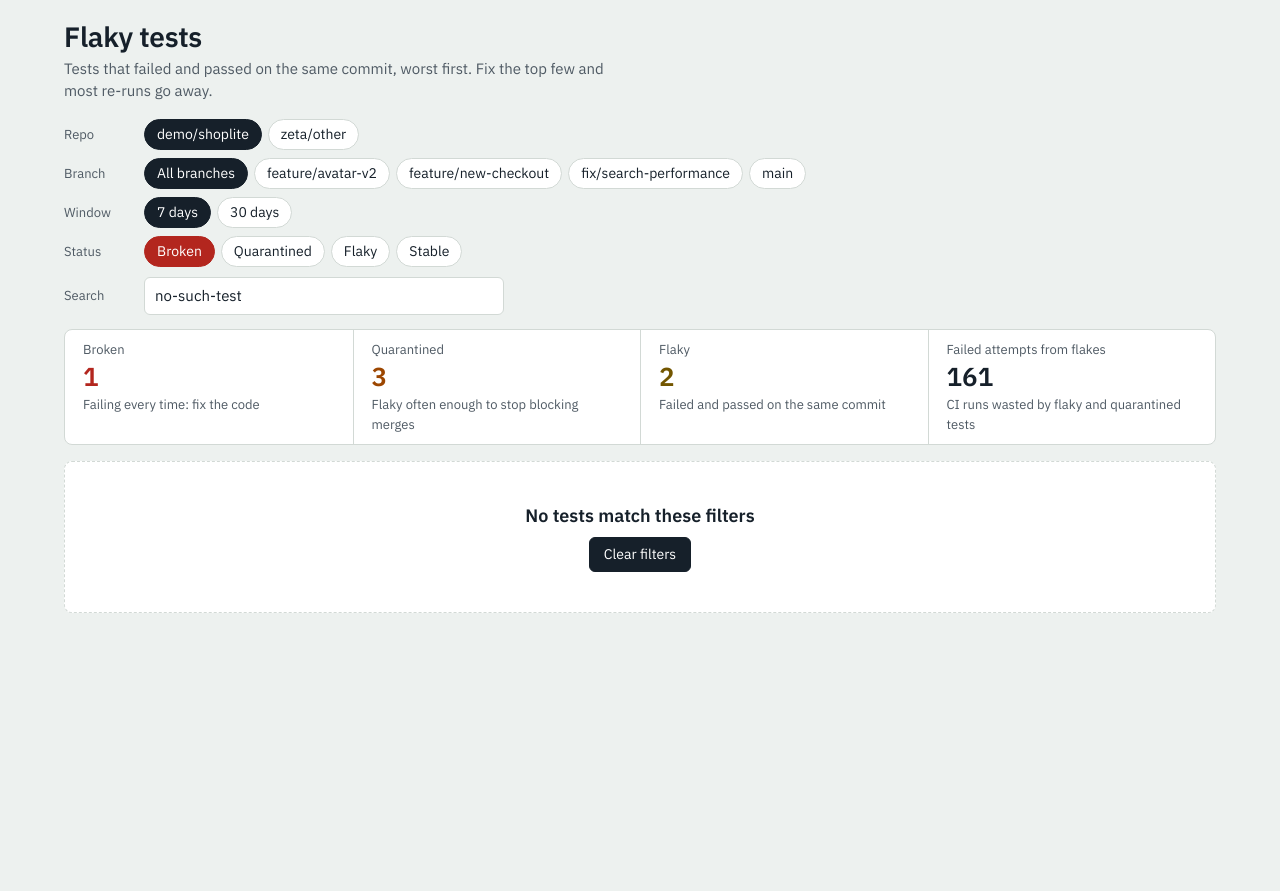
Test case: loading, empty, and error states › REQ-UI-08: when no rows match, says so and Clear filters restores the full list
expect the heading "No tests match these filters" is shown: met, box top-left (525, 504), bottom-right (755, 528)
Click the button "Clear filters".
click(640, 555)  # box top-left (589, 538), bottom-right (691, 572)
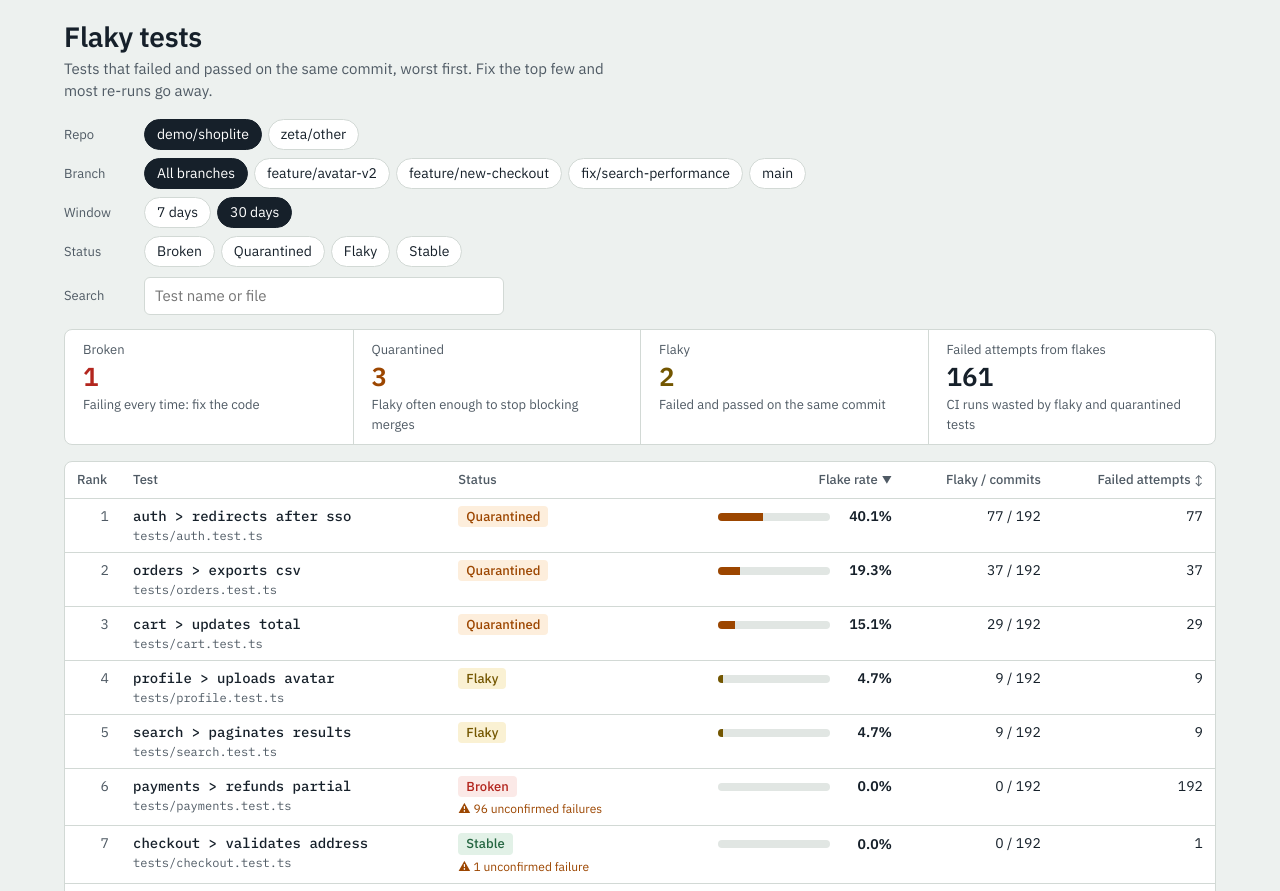
expect the number of rows with test id "test-row" is 25: met
